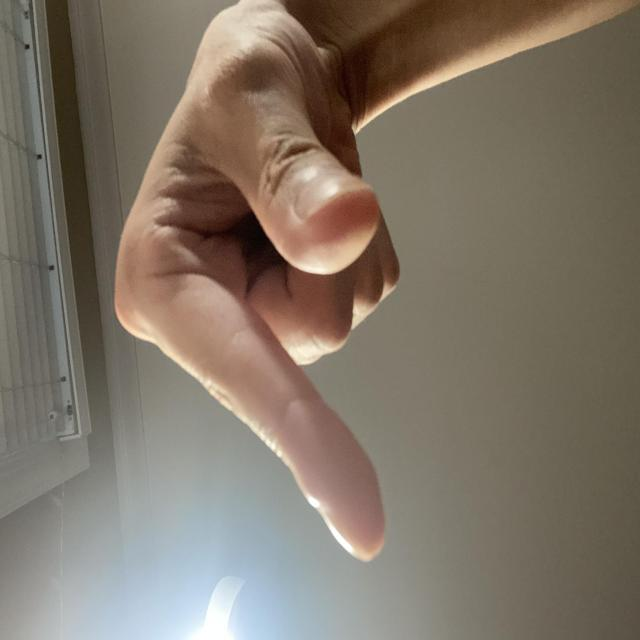Q: (49, 144, 480, 541)
